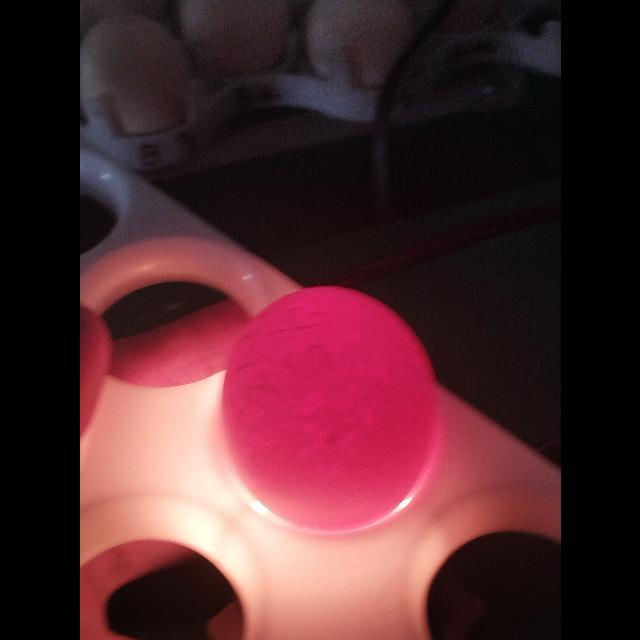Infertile: (218, 284, 444, 536)
